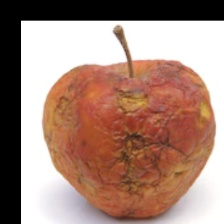apple: (8, 26, 173, 193)
